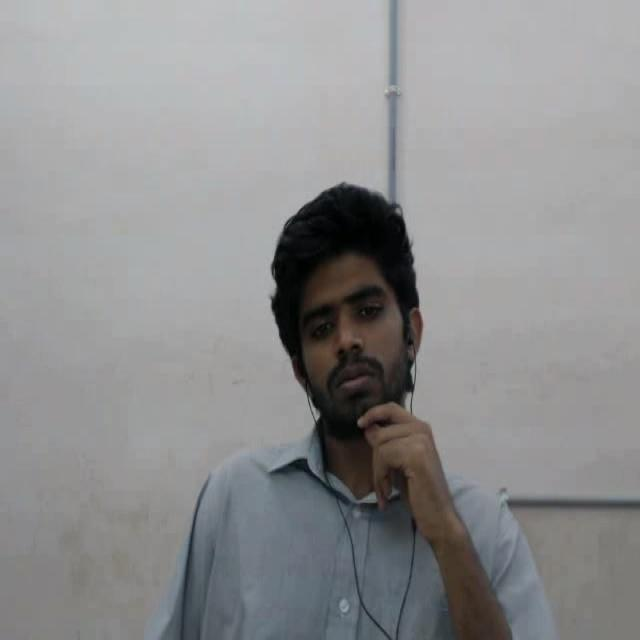Bored: (224, 157, 445, 466)
